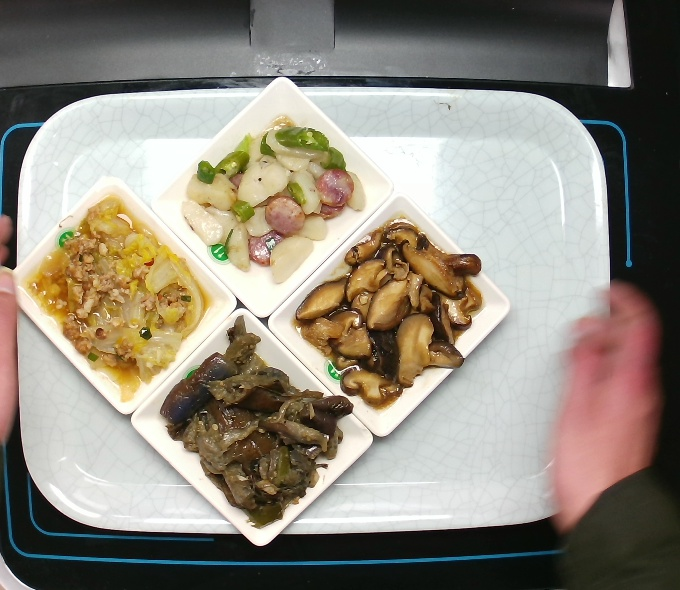wcq-MaTiGuo: (177, 110, 370, 289)
wcq-MoGu: (294, 216, 485, 409)
wcq-QieZi: (158, 314, 358, 529)
wcq-RouMoBaiCai: (28, 196, 207, 405)
